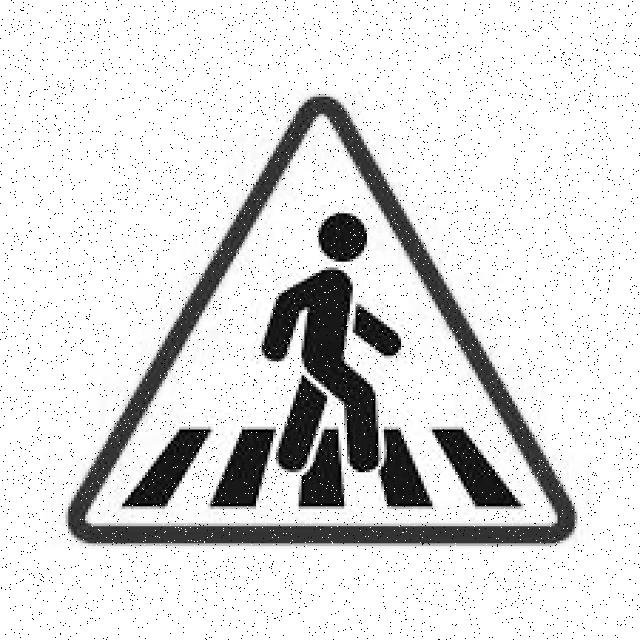Pedestrain_crossing: (66, 86, 573, 540)
